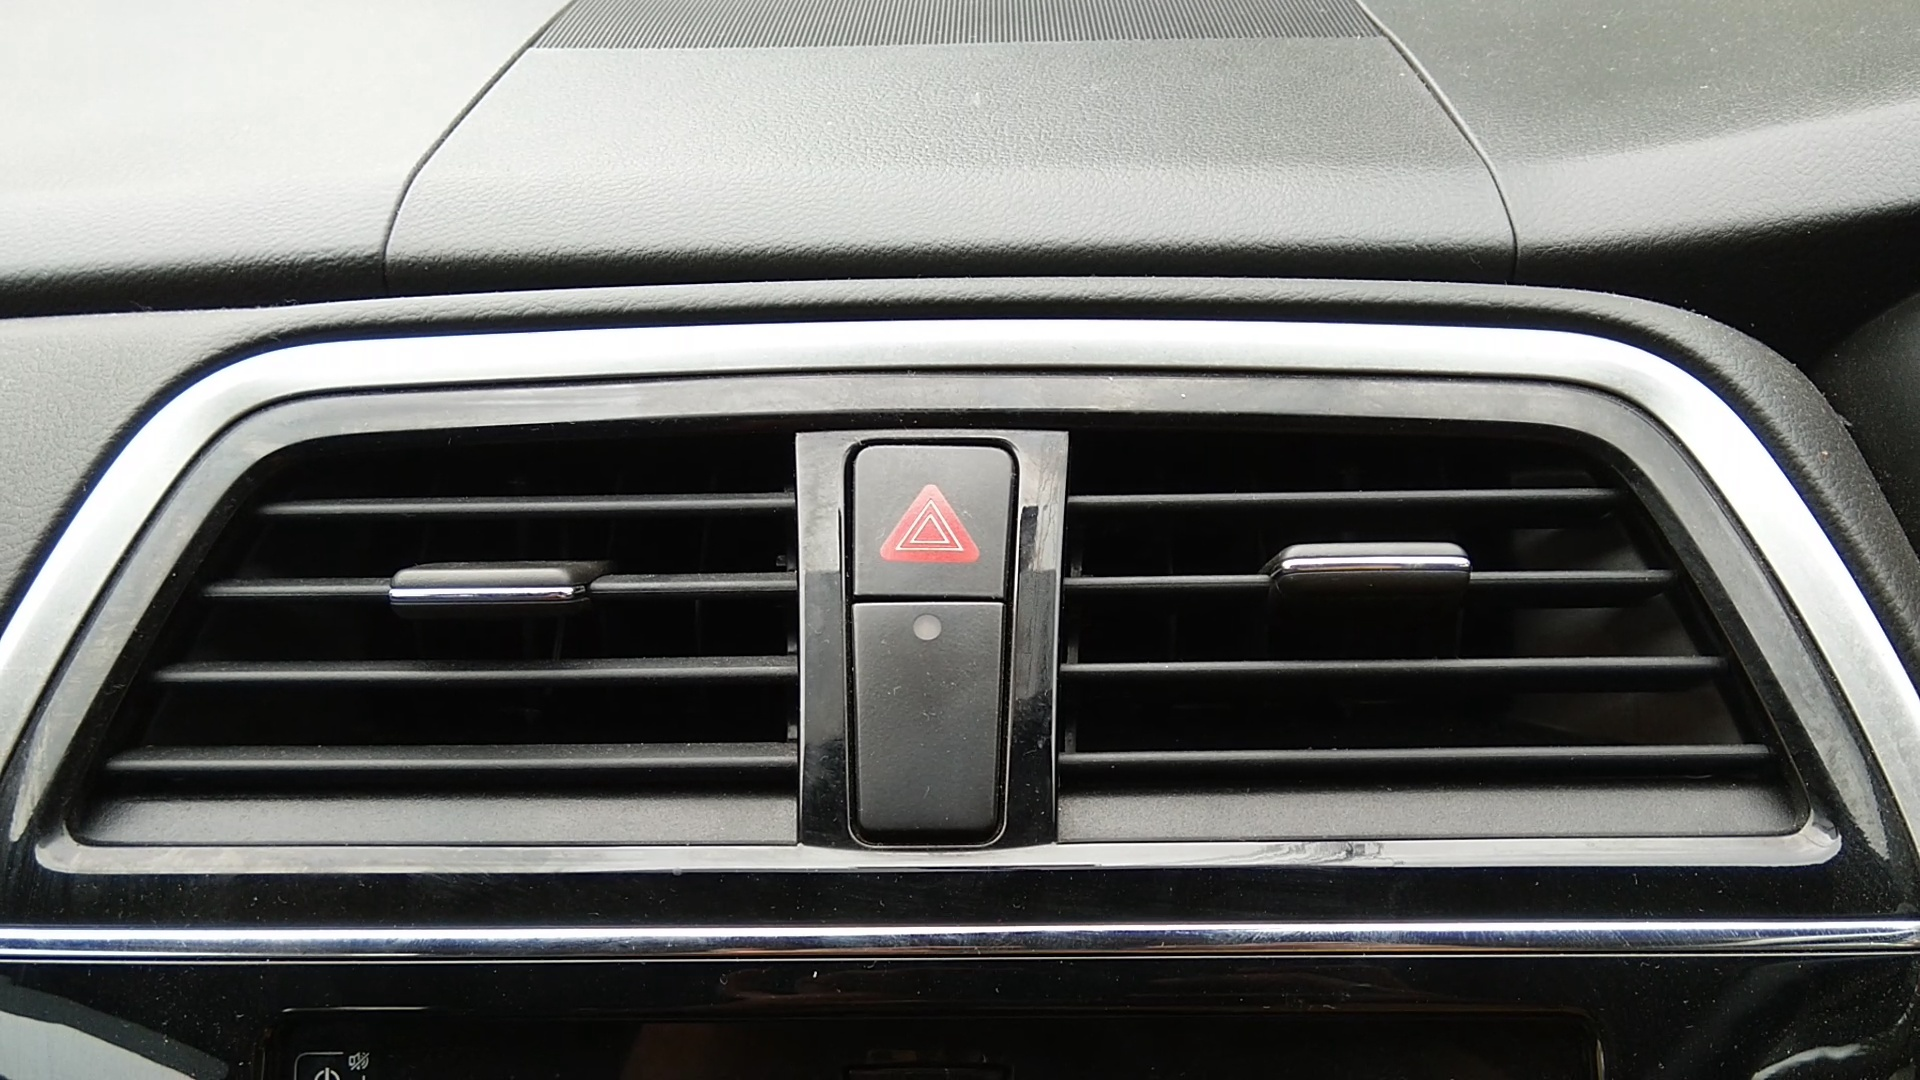parking_button: (836, 417, 1029, 625)
